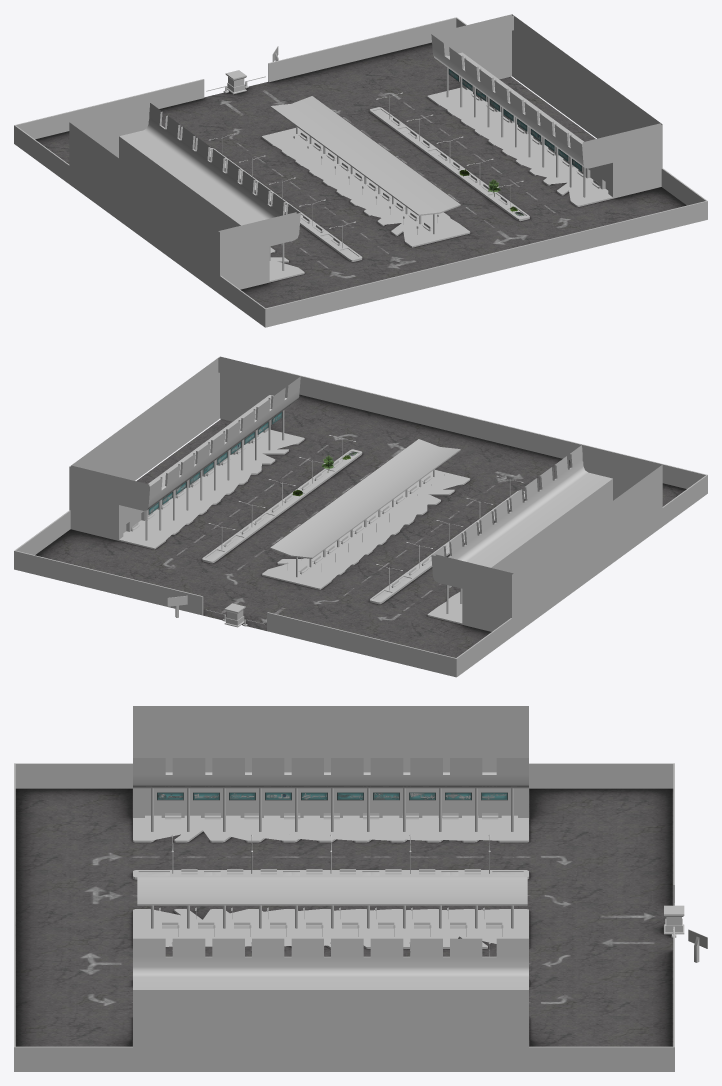
The model's file is AzadiTerminal.fbx.
The picture shows the model from 3 angles, top to bottom: view 1: azimuth 30°, elevation 25°; view 2: azimuth 150°, elevation 25°; view 3: azimuth 270°, elevation 25°; orthographic projection. The views are drawn at different scales.
Visible parts, largest first — view 1: TerminalGround, LeftTerminal, RightTerminal, Terminal_Center, RightBackWalls, LeftBackWalls, LeftFrontWalls, RightFrontWalls, RightCenterBolvar, LeftCenterBlovar, TaavoniTablo; view 2: TerminalGround, LeftTerminal, RightTerminal, Terminal_Center, LeftFrontWalls, RightFrontWalls, RightBackWalls, LeftBackWalls, RightCenterBolvar, LeftCenterBlovar, TaavoniTablo; view 3: TerminalGround, RightTerminal, LeftTerminal, Terminal_Center, RightFrontWalls, LeftFrontWalls, LeftCenterBlovar, RightBackWalls, LeftBackWalls, TaavoniTablo, Security_Cabine.
Boxes of the visible parts, x1,y1,x2,y2 form: TerminalGround: [35, 42, 686, 308]; LeftTerminal: [69, 102, 304, 294]; RightTerminal: [427, 14, 662, 206]; Terminal_Center: [261, 96, 470, 247]; RightBackWalls: [469, 168, 707, 277]; LeftBackWalls: [220, 259, 469, 327]; LeftFrontWalls: [14, 79, 204, 183]; RightFrontWalls: [268, 17, 466, 81]; RightCenterBolvar: [369, 92, 529, 221]; LeftCenterBlovar: [209, 133, 362, 261]; TaavoniTablo: [448, 68, 582, 171]; TerminalGround: [35, 394, 686, 657]; LeftTerminal: [427, 445, 662, 636]; RightTerminal: [69, 356, 304, 549]; Terminal_Center: [261, 439, 470, 589]; LeftFrontWalls: [267, 612, 511, 677]; RightFrontWalls: [14, 510, 203, 615]; RightBackWalls: [265, 367, 502, 443]; LeftBackWalls: [503, 425, 707, 526]; RightCenterBolvar: [202, 435, 362, 563]; LeftCenterBlovar: [369, 475, 525, 604]; TaavoniTablo: [149, 412, 282, 514]; TerminalGround: [15, 788, 673, 1046]; RightTerminal: [133, 938, 528, 1071]; LeftTerminal: [133, 706, 528, 842]; Terminal_Center: [133, 877, 528, 948]; RightFrontWalls: [529, 926, 674, 1071]; LeftFrontWalls: [529, 763, 674, 905]; LeftCenterBlovar: [133, 834, 528, 879]; RightBackWalls: [14, 894, 132, 1071]; LeftBackWalls: [14, 763, 132, 894]; TaavoniTablo: [157, 792, 507, 800]; Security_Cabine: [664, 905, 684, 934].
Bounding box in the file's own units: 373 × 50.13 × 386.
